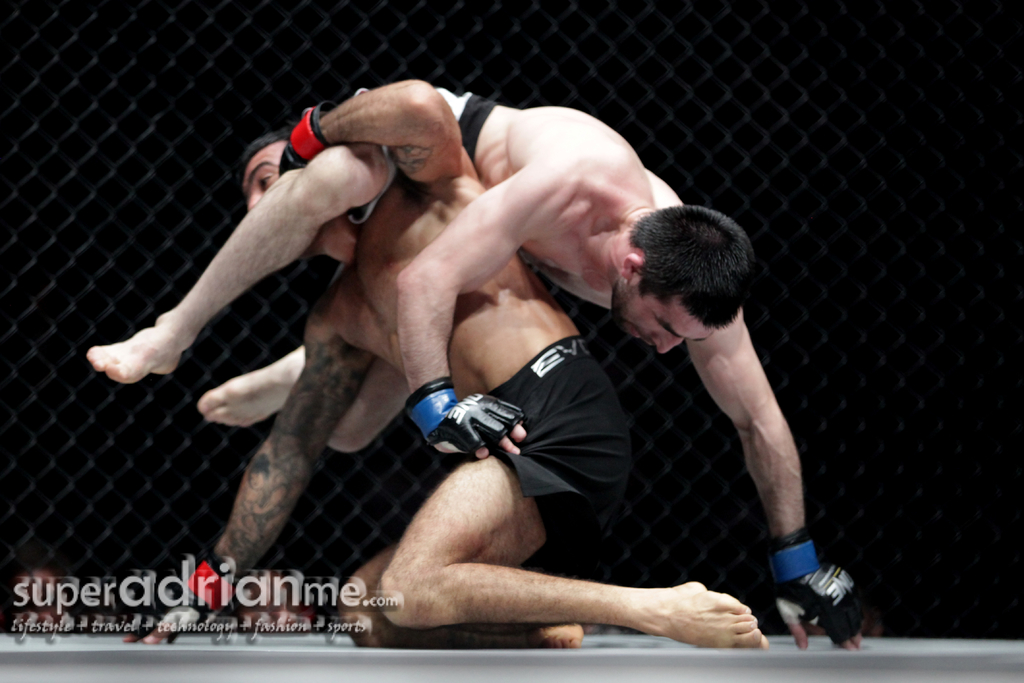face: (612, 287, 718, 356)
